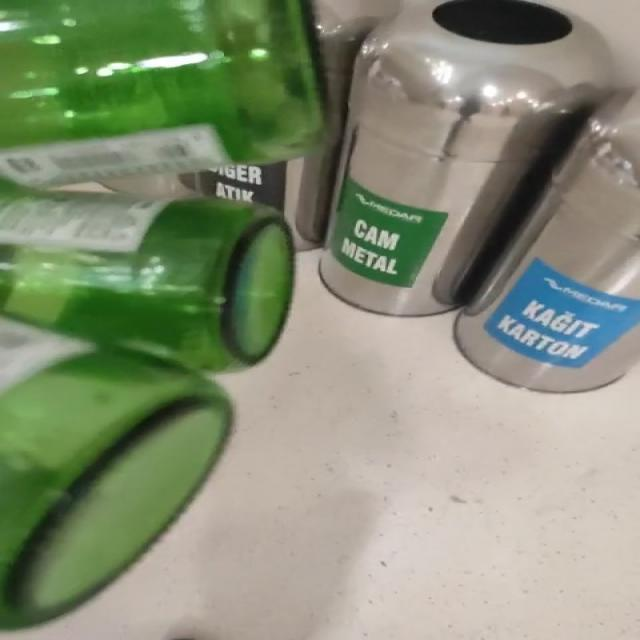glass: (0, 0, 323, 630)
